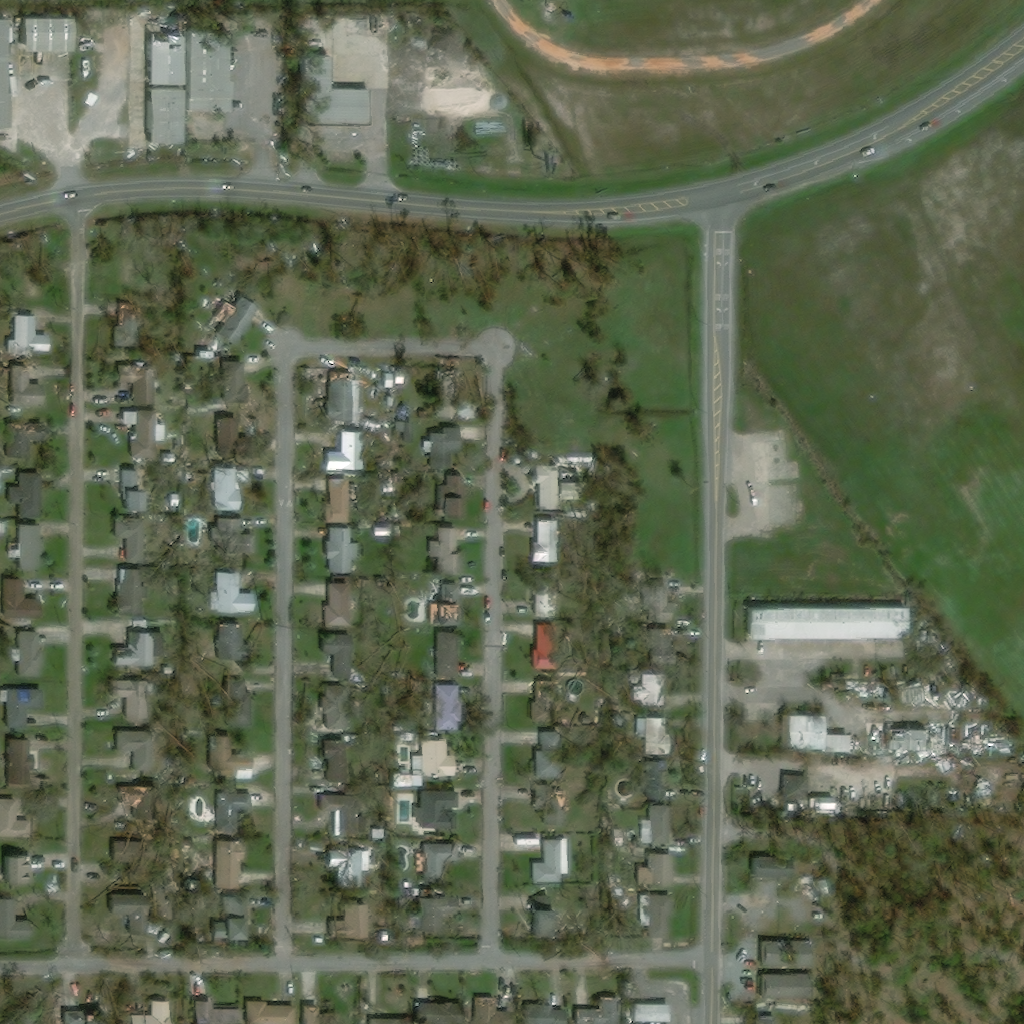destroyed: (887, 718, 1001, 755), (813, 882, 833, 895)
major_damage: (153, 16, 192, 87), (223, 296, 268, 345), (120, 622, 168, 665), (127, 787, 173, 828), (336, 371, 363, 426), (11, 423, 51, 459), (437, 585, 467, 626), (444, 371, 469, 418), (542, 787, 572, 825), (121, 305, 145, 352)
minor_damage: (755, 606, 920, 644), (791, 713, 883, 753), (154, 90, 191, 142), (126, 363, 163, 405), (125, 572, 156, 617), (540, 679, 572, 720), (228, 627, 259, 666), (256, 1000, 303, 1024), (224, 417, 253, 453), (479, 992, 510, 1024), (582, 1000, 623, 1024), (656, 628, 683, 664)
no_damage: (307, 51, 389, 130), (198, 30, 248, 113), (117, 890, 172, 938), (129, 409, 176, 464), (544, 466, 598, 510), (120, 517, 170, 561), (29, 16, 85, 54), (422, 791, 467, 837), (218, 736, 263, 781), (321, 688, 367, 731), (0, 800, 48, 841), (0, 17, 17, 132), (219, 574, 265, 614), (7, 691, 51, 731), (0, 899, 41, 941), (769, 941, 830, 969), (540, 839, 576, 886), (438, 527, 473, 575), (430, 426, 470, 467), (11, 578, 49, 621), (628, 994, 682, 1024), (16, 318, 57, 357), (15, 526, 50, 571), (334, 528, 368, 574), (768, 976, 833, 1000), (126, 733, 166, 772), (333, 431, 371, 472), (19, 634, 53, 679), (15, 473, 49, 518), (116, 683, 156, 721), (420, 739, 462, 774), (220, 517, 264, 550), (120, 843, 157, 882), (425, 844, 465, 879), (223, 471, 257, 512), (7, 741, 39, 784), (651, 899, 683, 941), (218, 794, 260, 826), (437, 634, 466, 679), (329, 796, 366, 831), (17, 368, 49, 408), (330, 635, 359, 678), (127, 469, 155, 513), (648, 758, 678, 799), (331, 582, 358, 627), (439, 687, 466, 732), (541, 896, 571, 936), (228, 842, 253, 889), (445, 476, 472, 519), (340, 905, 376, 937), (651, 807, 679, 848), (348, 850, 379, 886), (652, 585, 681, 623), (333, 479, 358, 523), (230, 360, 255, 403), (543, 735, 567, 779), (236, 682, 260, 726), (643, 676, 674, 709), (543, 571, 566, 614), (542, 625, 565, 668), (423, 1003, 470, 1024), (2, 857, 36, 886), (767, 1007, 825, 1024), (332, 740, 354, 784), (540, 521, 564, 560), (652, 716, 677, 752), (761, 859, 803, 880), (309, 1005, 352, 1024), (660, 854, 684, 888), (141, 1002, 178, 1024), (543, 1005, 575, 1024), (191, 799, 207, 815), (0, 467, 9, 493), (377, 1019, 419, 1024), (408, 885, 424, 897), (177, 494, 189, 509), (381, 529, 398, 538), (390, 483, 401, 495), (392, 374, 401, 388), (411, 775, 420, 788), (403, 375, 412, 387), (413, 735, 425, 743), (0, 523, 7, 536), (424, 412, 434, 419), (394, 399, 401, 408)
